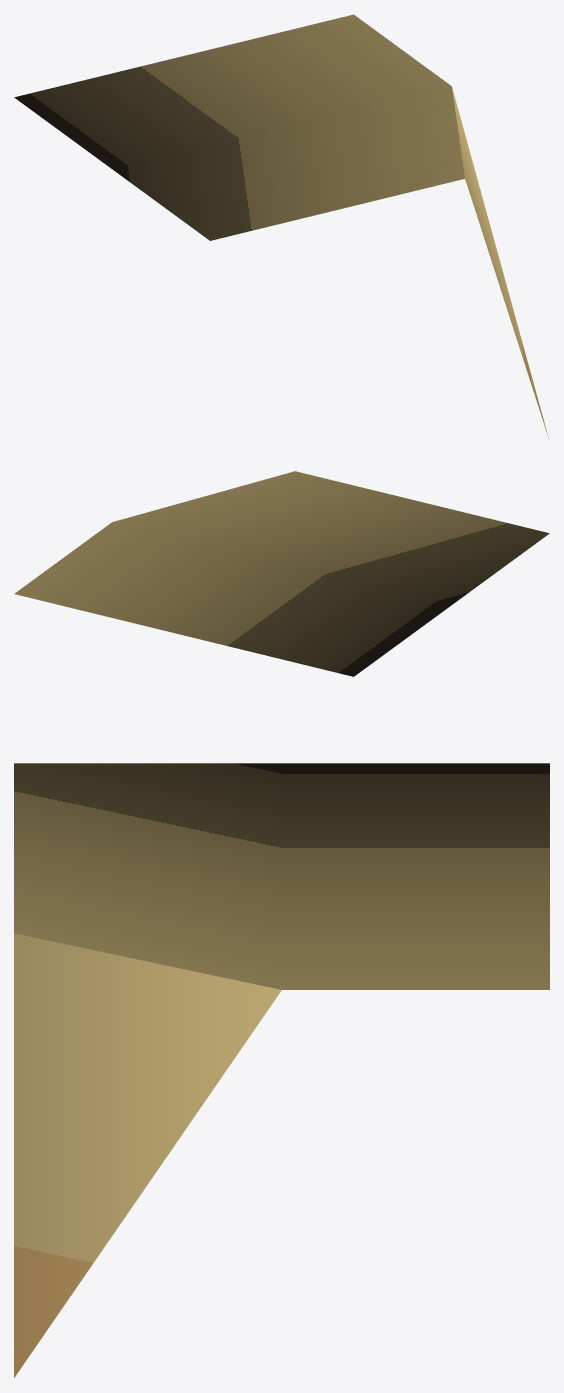
3 renders of one model, top to bottom at view 1: azimuth 30°, elevation 25°; view 2: azimuth 150°, elevation 25°; view 3: azimuth 270°, elevation 25°, orthographic. The views are drawn at different scales.
Size of the model in its own units: 1 by 0.7998 by 1.
2 materials, 2 textured.
